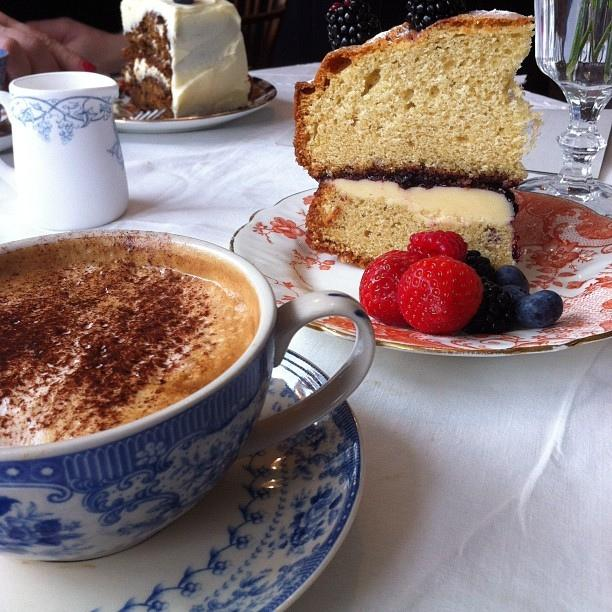blackberry: (462, 278, 516, 336), (326, 1, 382, 51), (406, 1, 468, 32), (464, 256, 497, 284)
blueberry: (513, 290, 563, 328), (502, 286, 531, 322), (494, 265, 528, 291)
strawberry: (396, 256, 482, 336), (359, 250, 427, 327)
